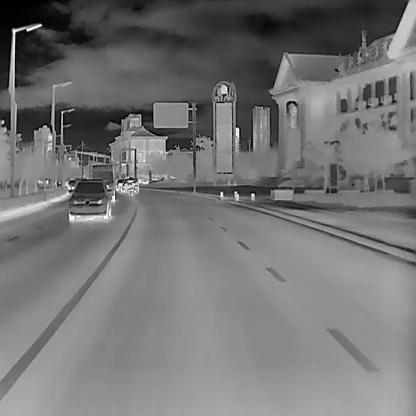car: (66, 176, 111, 224), (121, 176, 138, 192)
truck: (90, 162, 115, 202)
